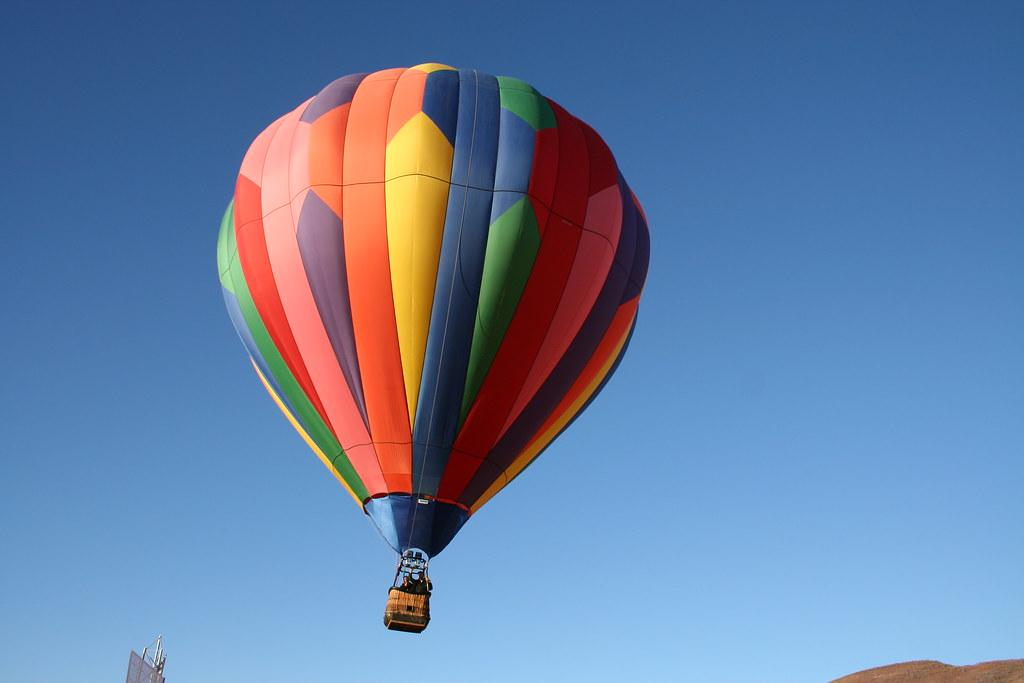balloon: (215, 61, 652, 634)
